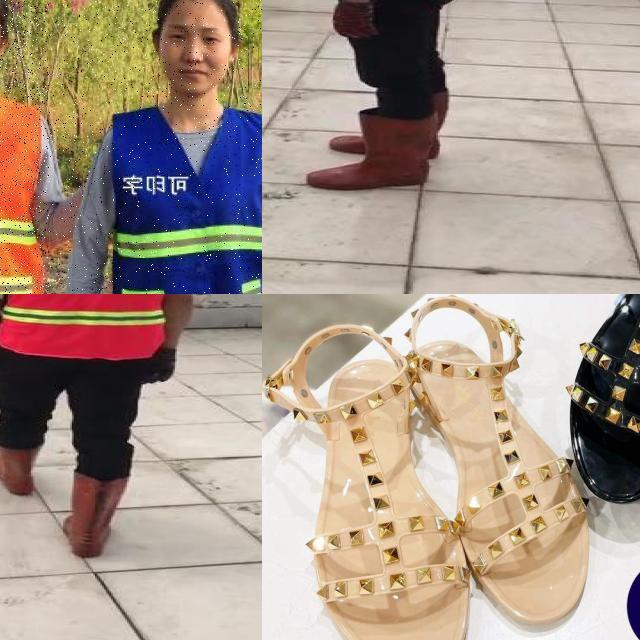No_Glasses: (158, 16, 226, 52)
Sandals: (262, 294, 606, 640), (534, 294, 640, 558)
boots: (305, 113, 436, 192), (328, 87, 450, 157), (60, 470, 134, 558), (0, 444, 36, 495)
hand_glove: (333, 0, 377, 38), (145, 349, 177, 383)
person: (49, 0, 262, 294), (0, 294, 214, 562), (282, 0, 500, 198), (0, 0, 60, 294)
vest: (106, 104, 262, 294), (0, 294, 189, 360), (0, 94, 57, 294)
